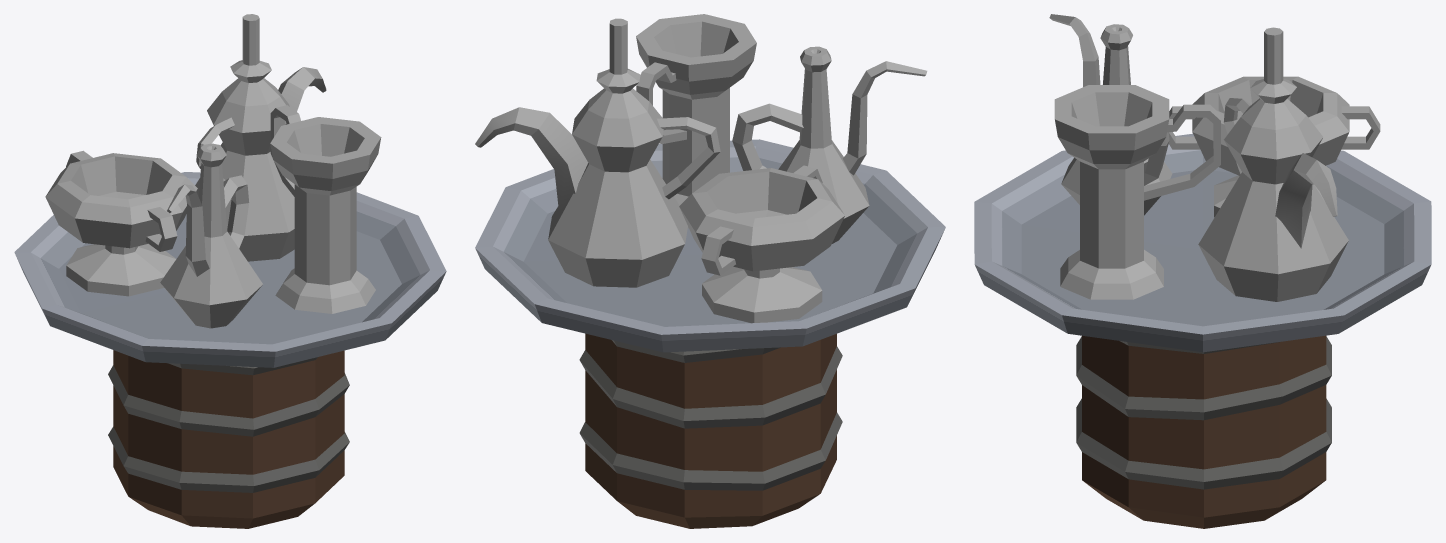
The model's file is SM_Prop_Gold_Plates_Preset_05.fbx.
3 views of the same model, side by side, from view 1: azimuth 30°, elevation 25°; view 2: azimuth 150°, elevation 25°; view 3: azimuth 270°, elevation 25° (orthographic). The views are drawn at different scales.
Visible parts, largest first — view 1: SM_Prop_Gold_Plates_Preset_05; view 2: SM_Prop_Gold_Plates_Preset_05; view 3: SM_Prop_Gold_Plates_Preset_05.
Part boxes in pixels (bbox=[...]): SM_Prop_Gold_Plates_Preset_05: bbox=[14, 14, 446, 528]; SM_Prop_Gold_Plates_Preset_05: bbox=[475, 14, 945, 528]; SM_Prop_Gold_Plates_Preset_05: bbox=[974, 14, 1431, 528].
Size of the model in its own units: 127 by 141 by 121.
